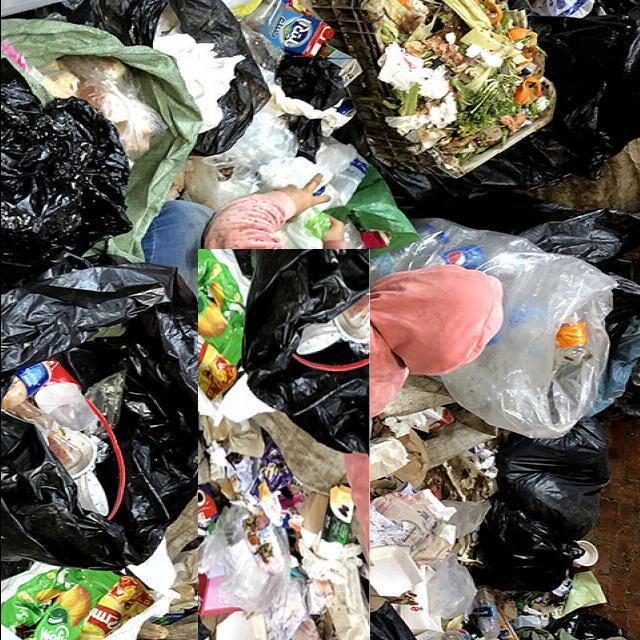Trashbag: (0, 281, 208, 579), (239, 240, 373, 453), (0, 78, 135, 271), (483, 424, 615, 583)
